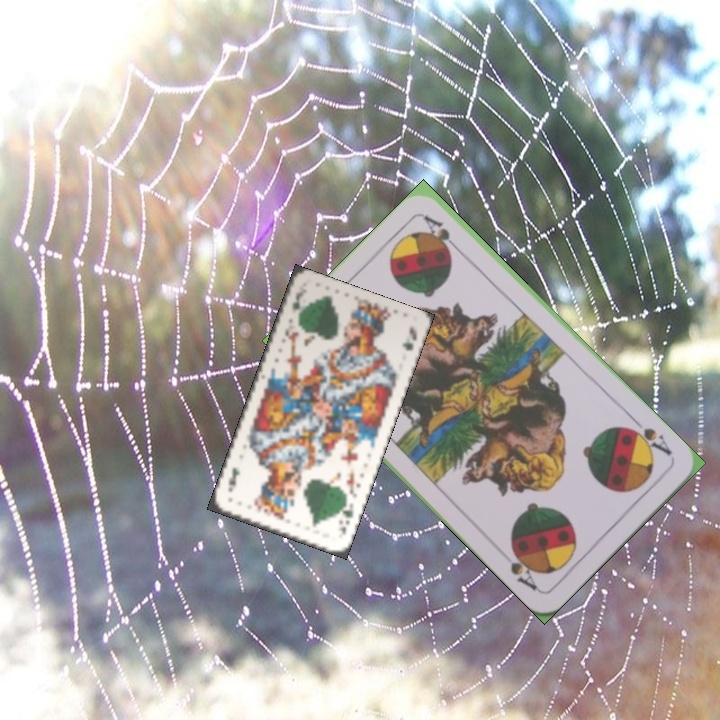GK: (336, 499, 356, 539), (288, 293, 303, 322)
SA: (622, 414, 674, 458)
